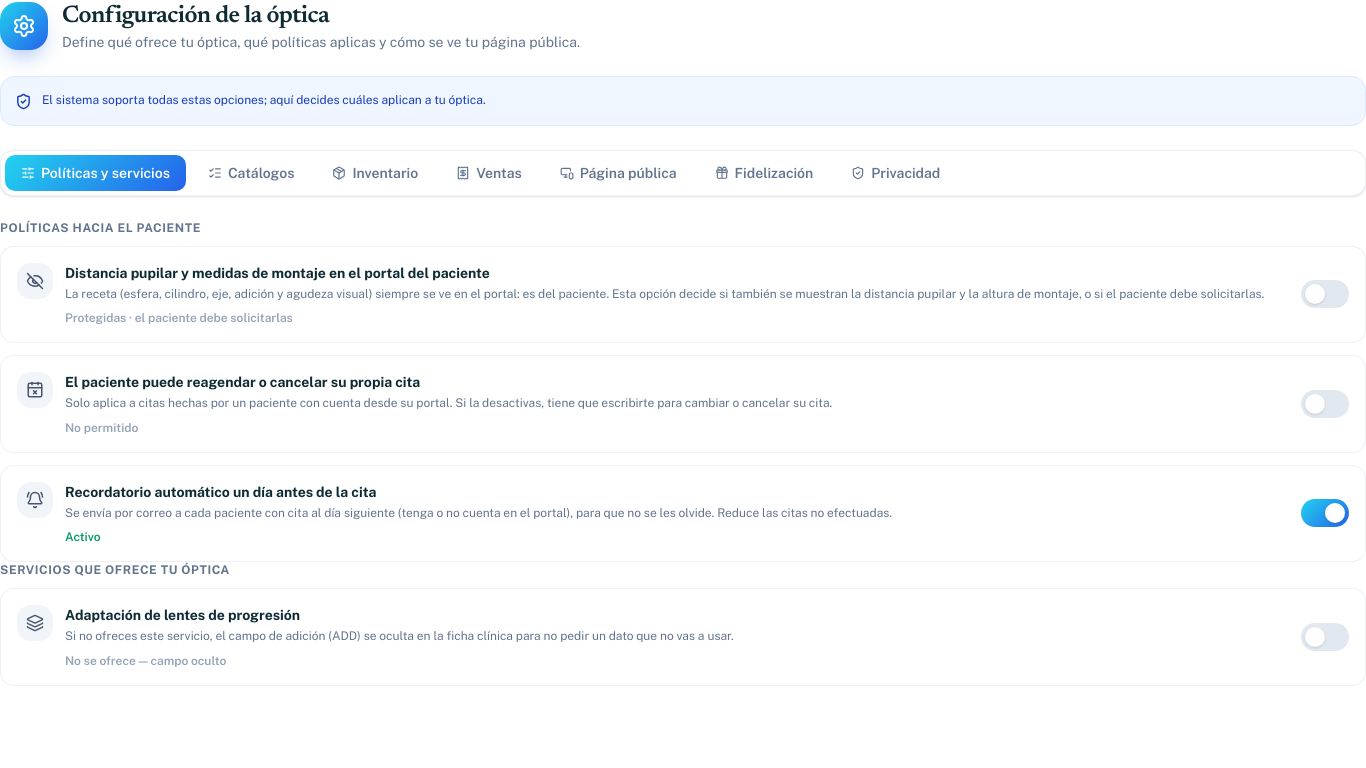
Test: Configuración: la confirmación usa la ventana estándar › un interruptor que pide confirmar abre la ventana estándar con Cancelar y Confirmar
Click the switch named "Distancia pupilar y medidas de montaje en el portal del paci" at (1325, 294), box [1301,280,1349,308]
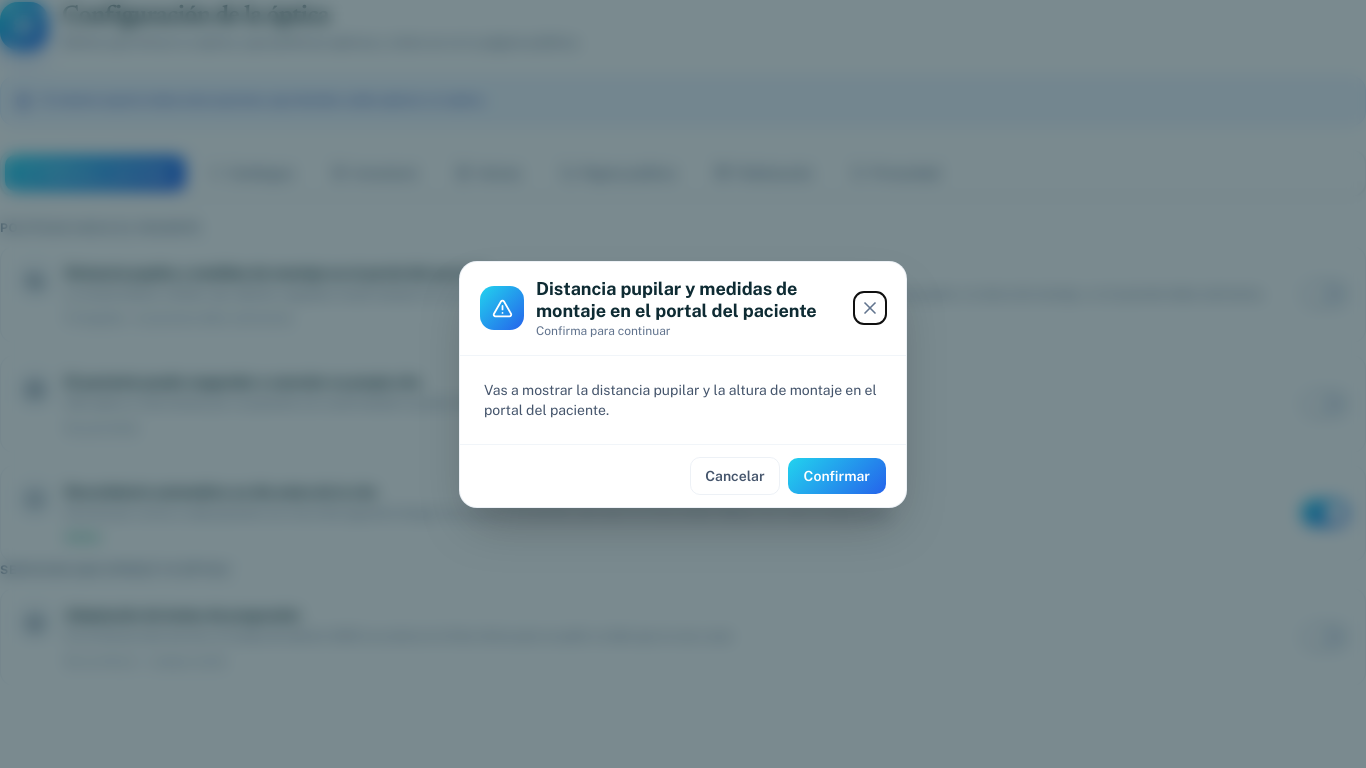
Expected: the button "Cancelar" is shown, [690,456,780,494]
Expected: the button "Confirmar" is shown, [788,458,886,494]
